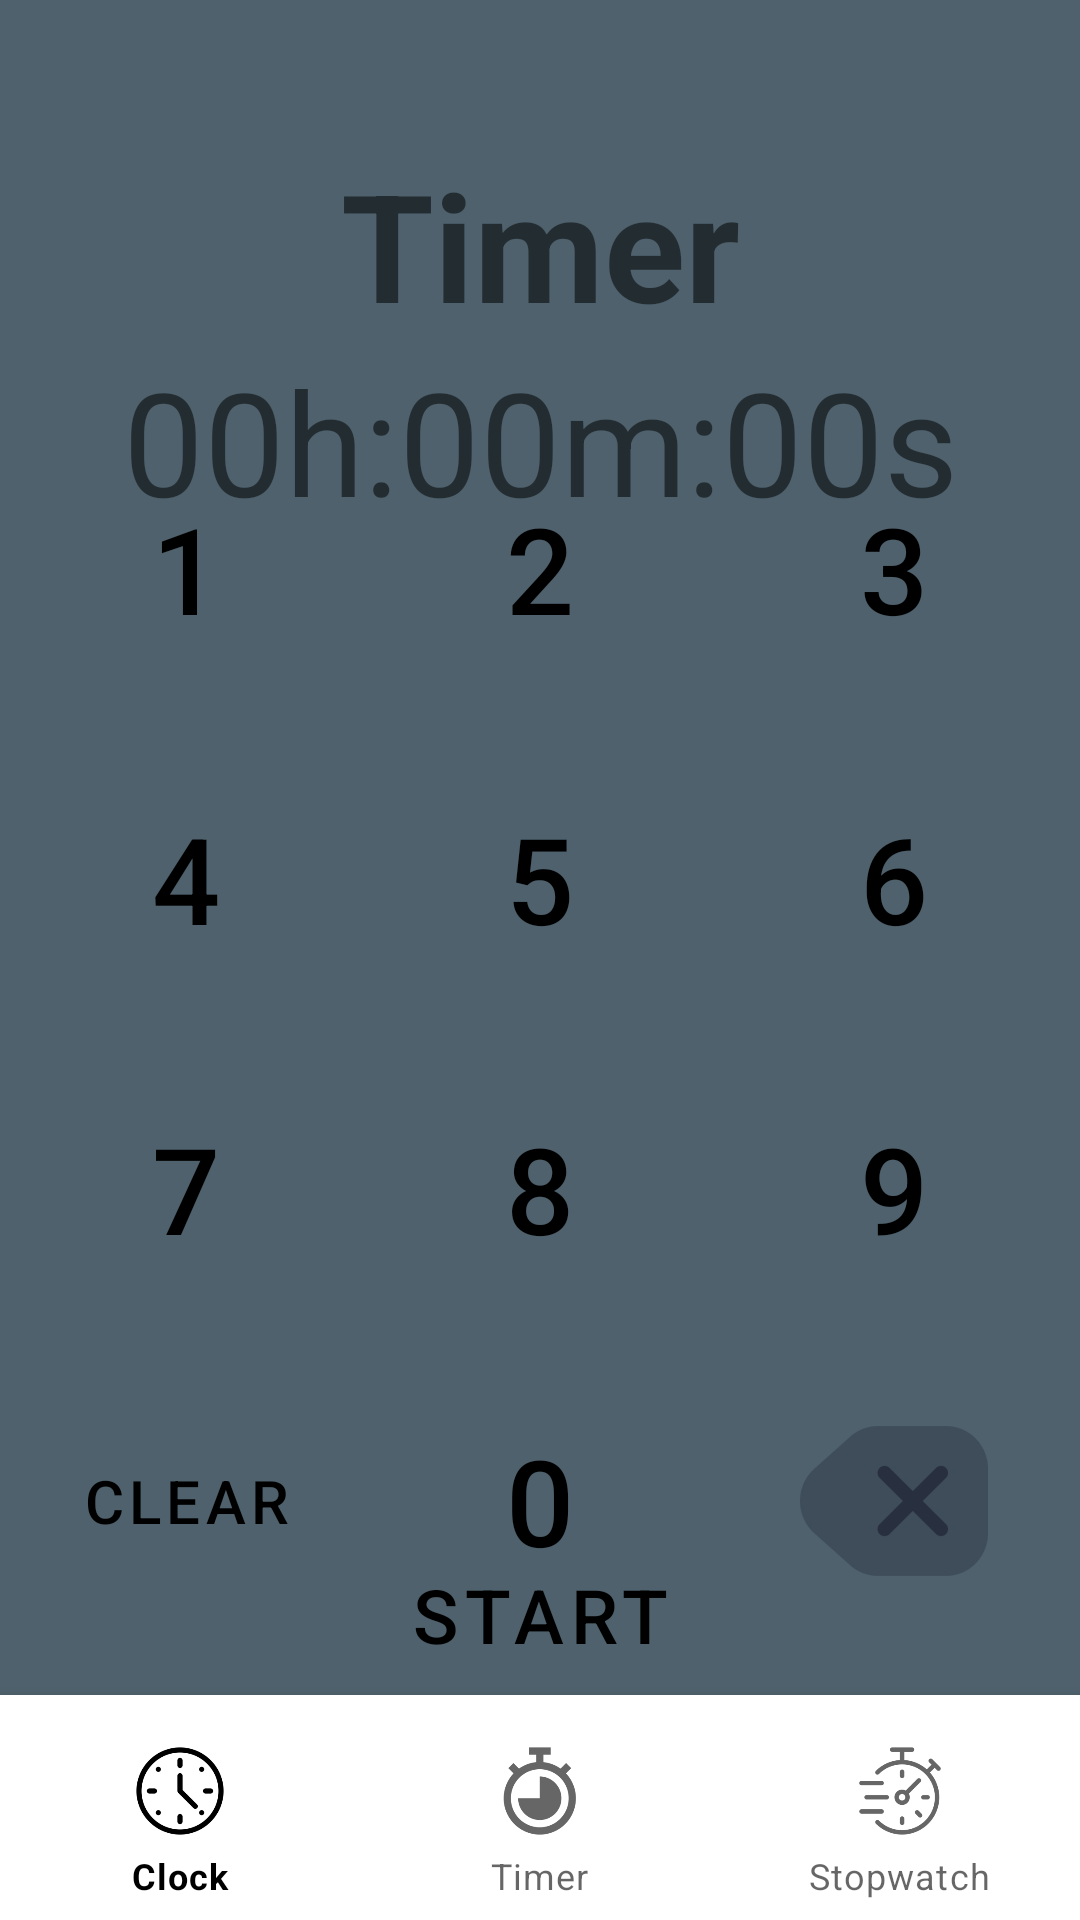

Icon click points for this 1080w x 1920h phone screenshot, format (x,y):
backspace: (894,1501)
